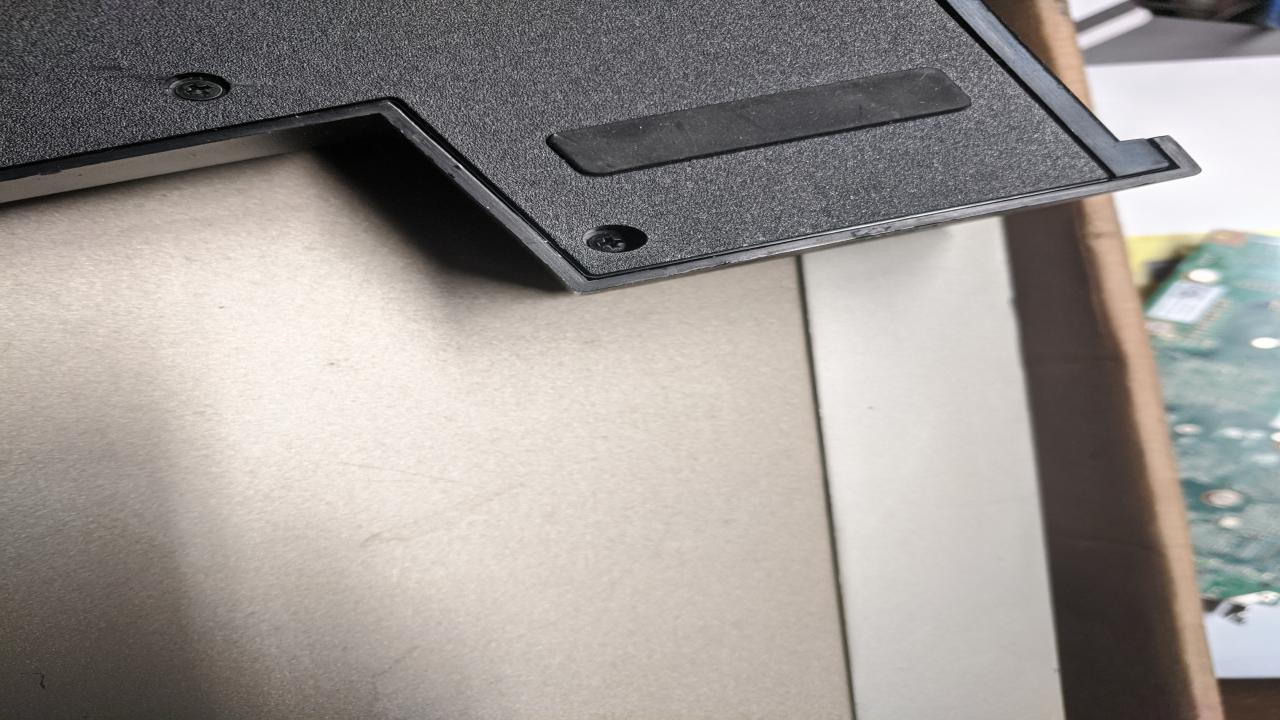CRS: (167, 75, 228, 100), (591, 232, 633, 254)
